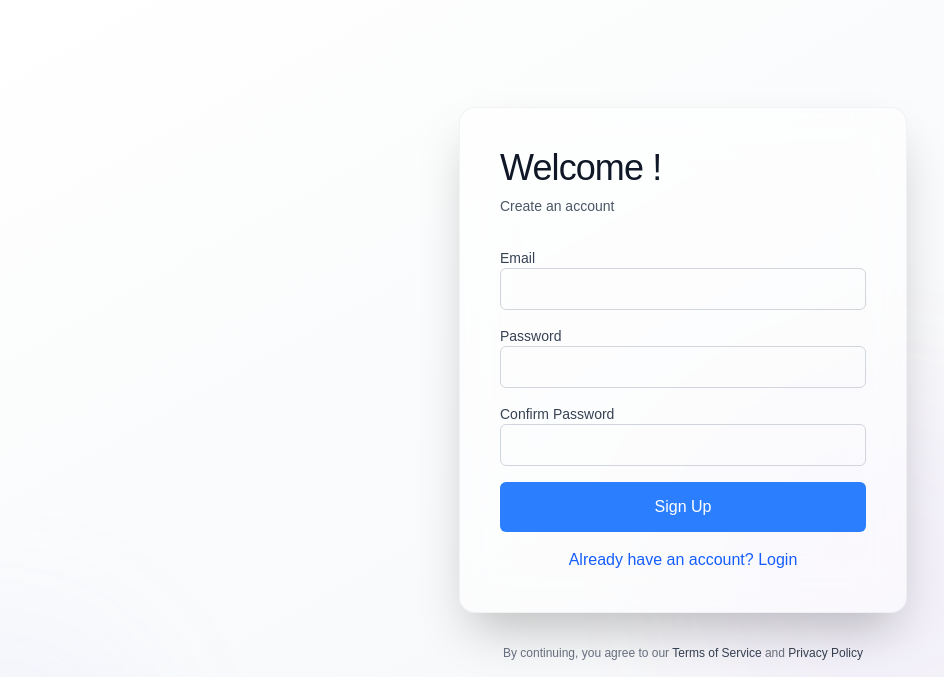
Register Page › disables submit button while loading
In the field labelled "Email": [683, 289] box [500, 268, 866, 310], type "disabled@example.com"
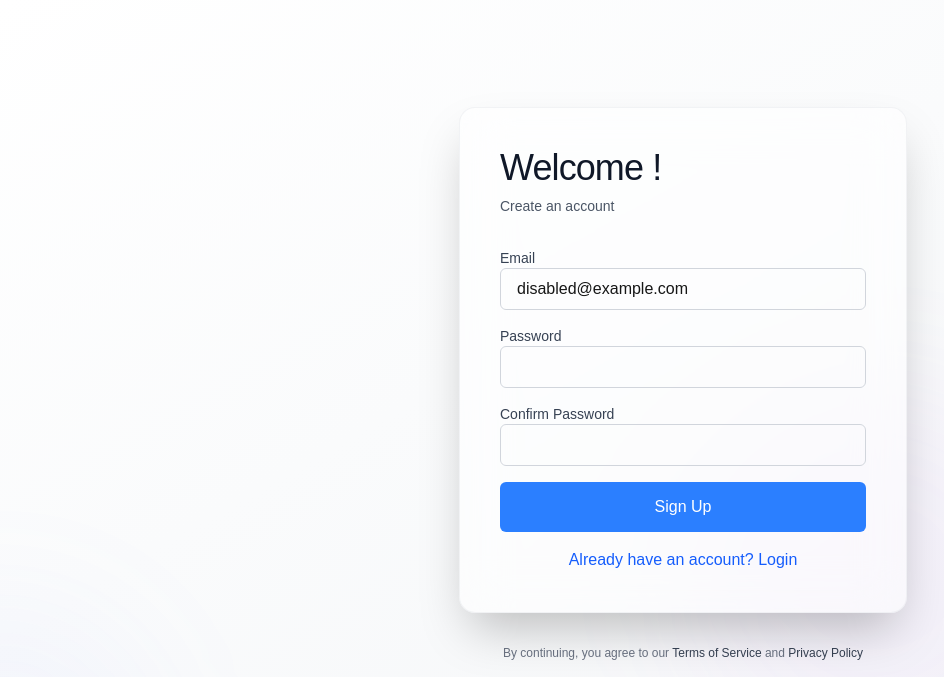
In the password field labelled "Password": [683, 367] box [500, 346, 866, 388], type "pass123"
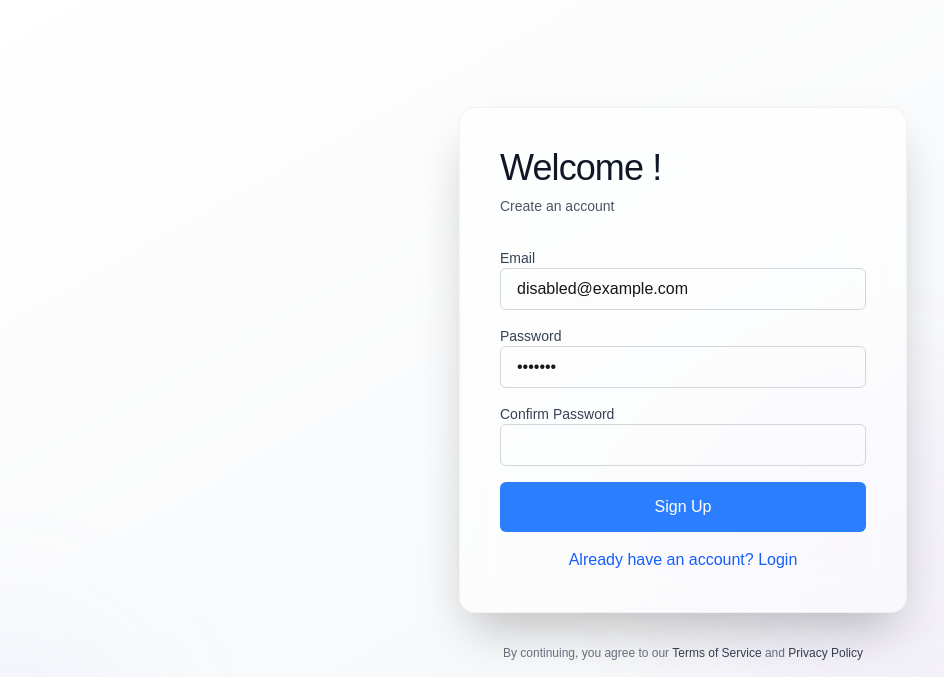
In the password field labelled "Confirm Password": [683, 445] box [500, 424, 866, 466], type "pass123"
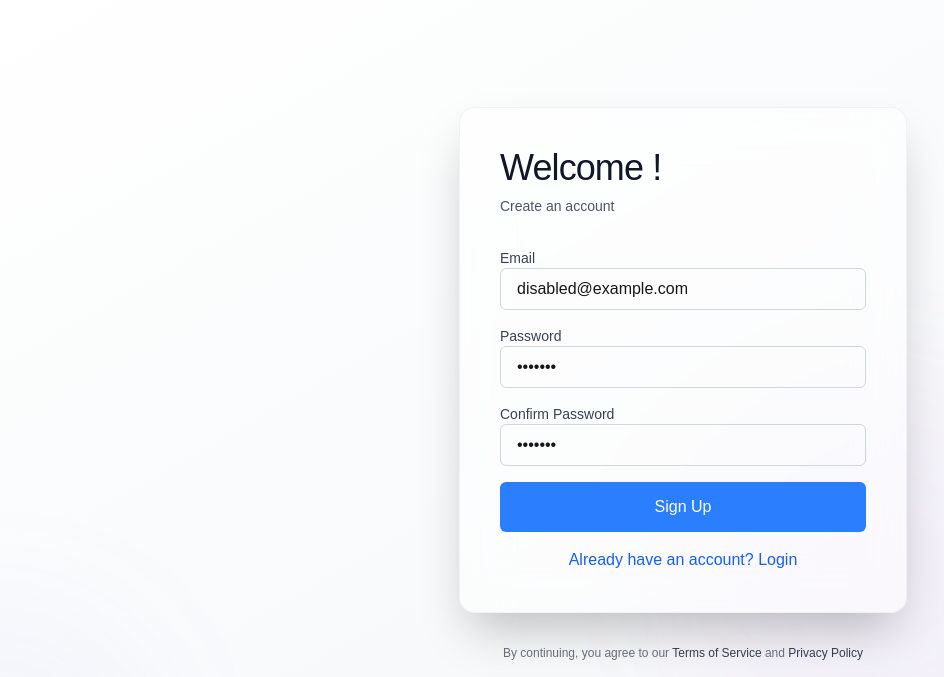
Click the button "Sign Up": [683, 507] box [500, 482, 866, 532]
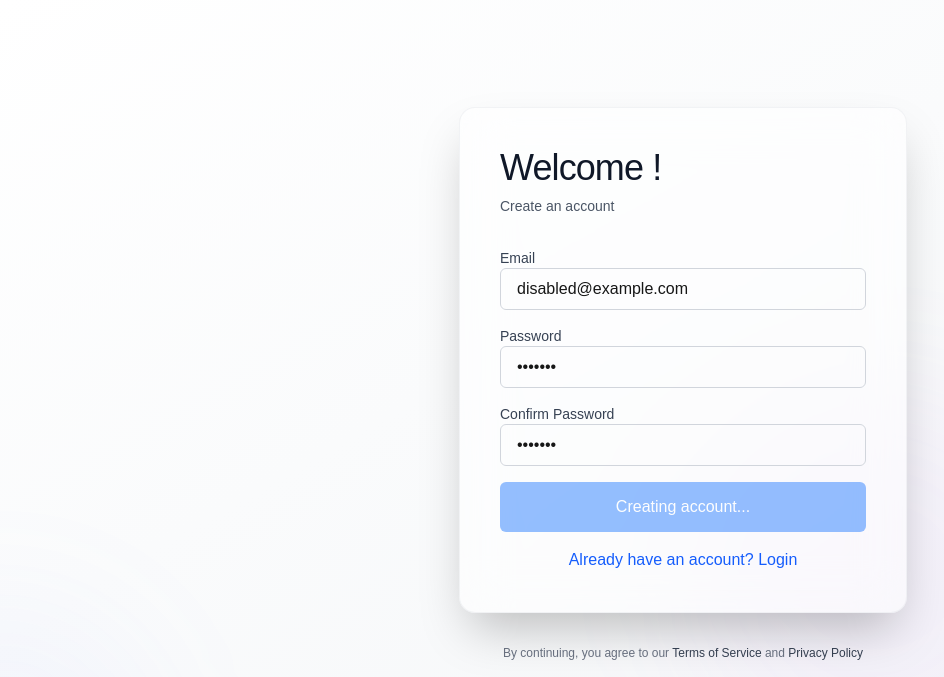
Expected: the button is disabled, [500, 482, 866, 532]
